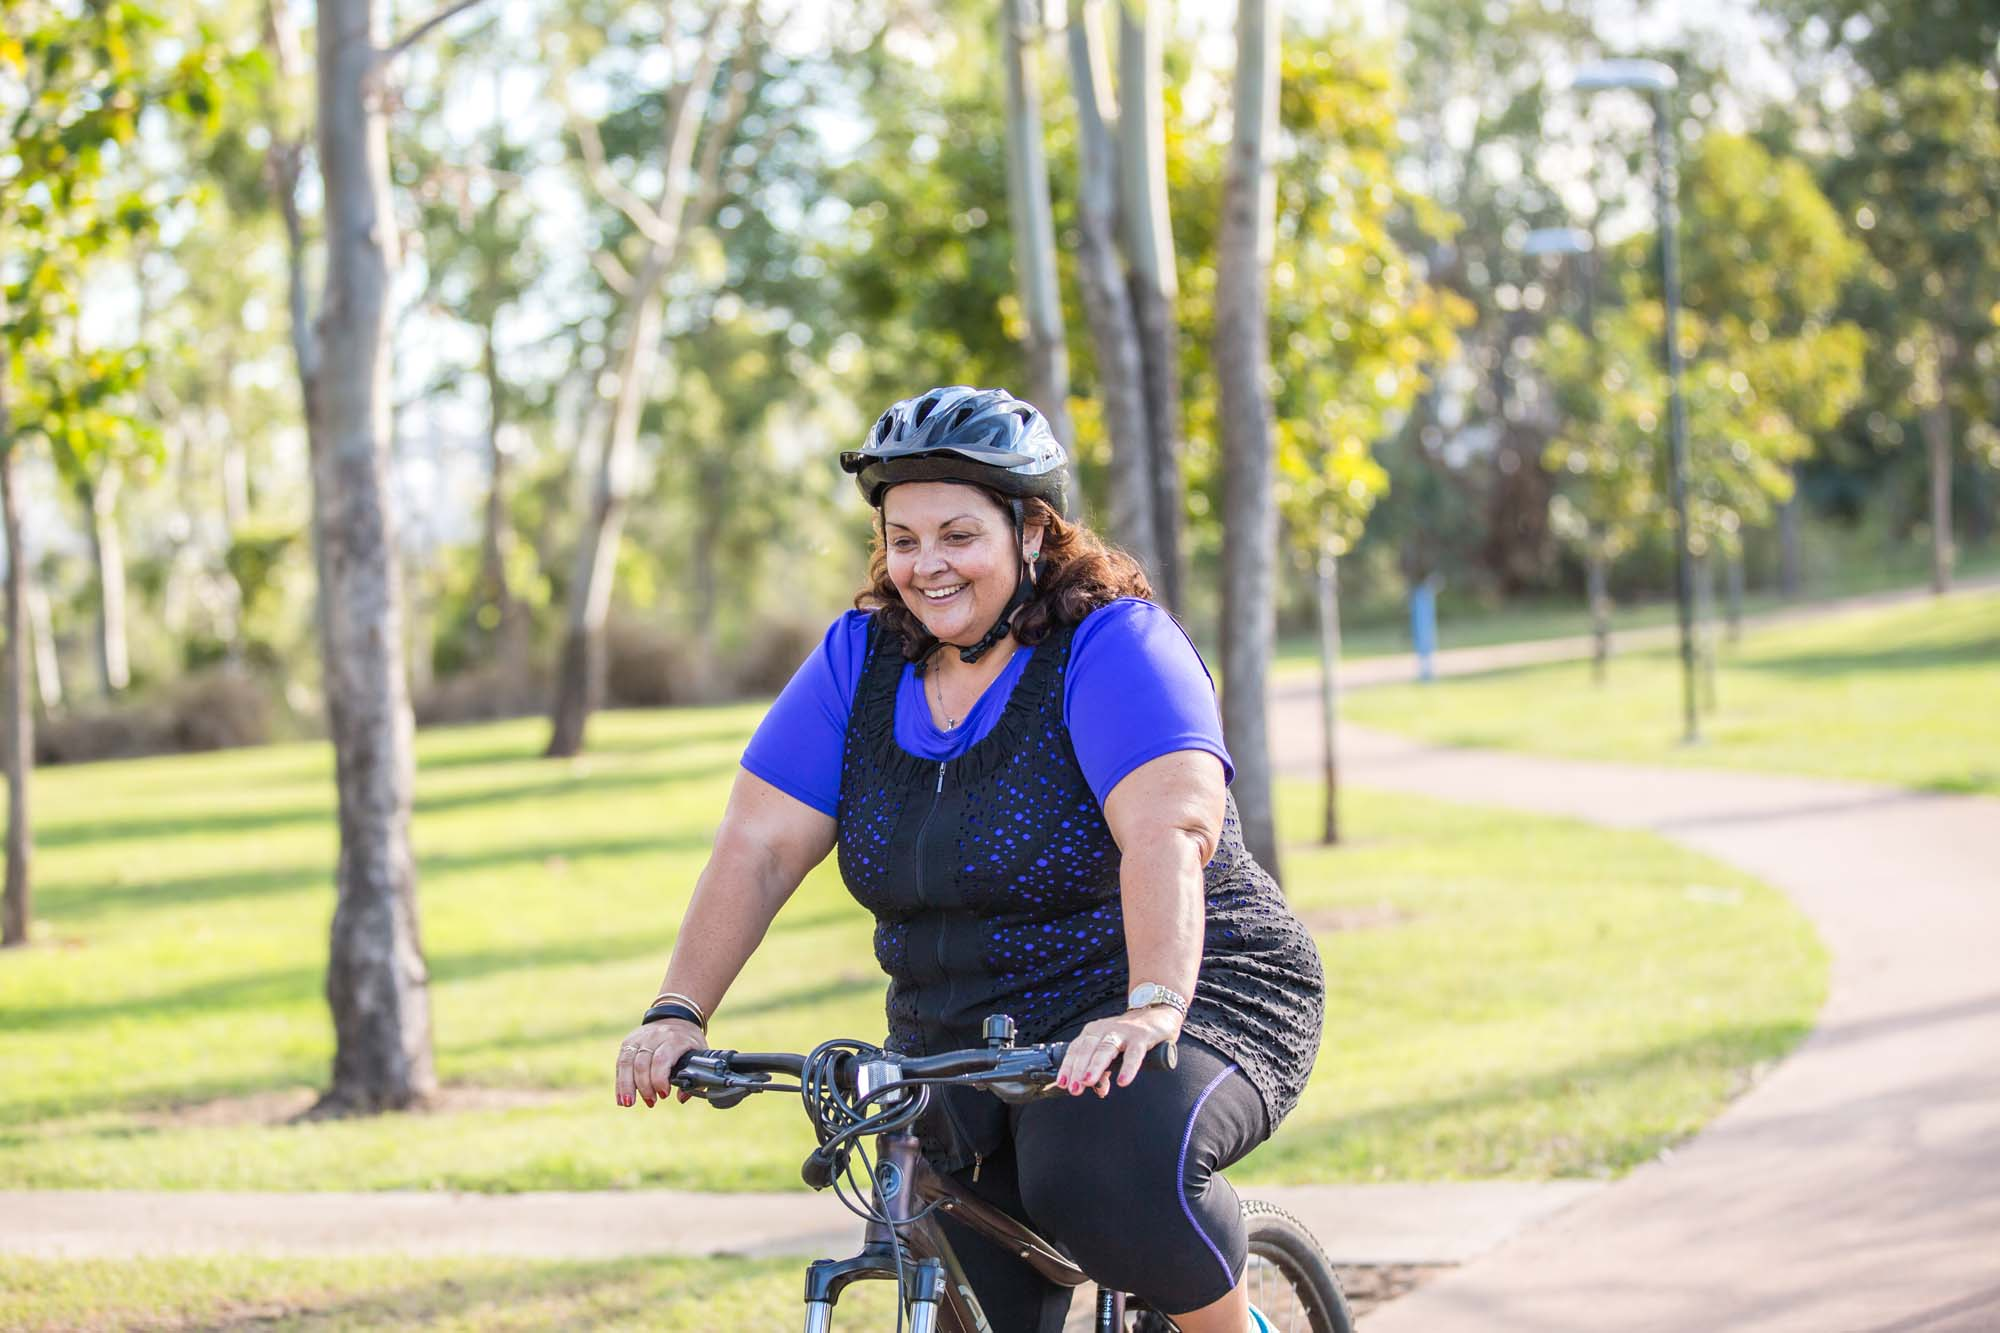commuter: (613, 370, 1355, 1333)
